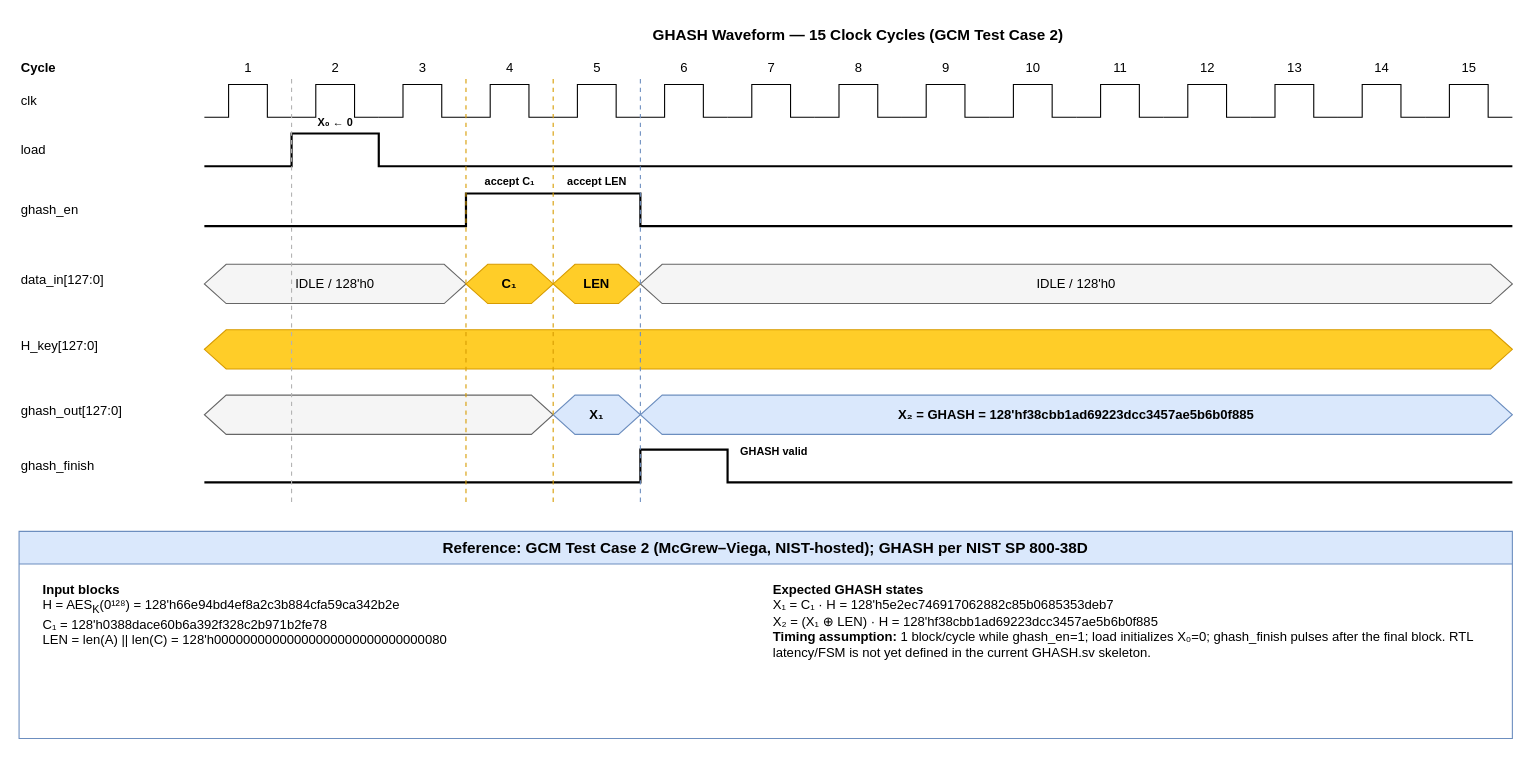
Some shapes in this 1534 by 758 pixel diagram are drawn without their labels. The centre of each missing label's shape, as x and y in pixels:
128'h66e94bd4ef8a2c3b884cfa59ca342b2e: the point at 857,349
X₀ = 128'h0: the point at 378,414
